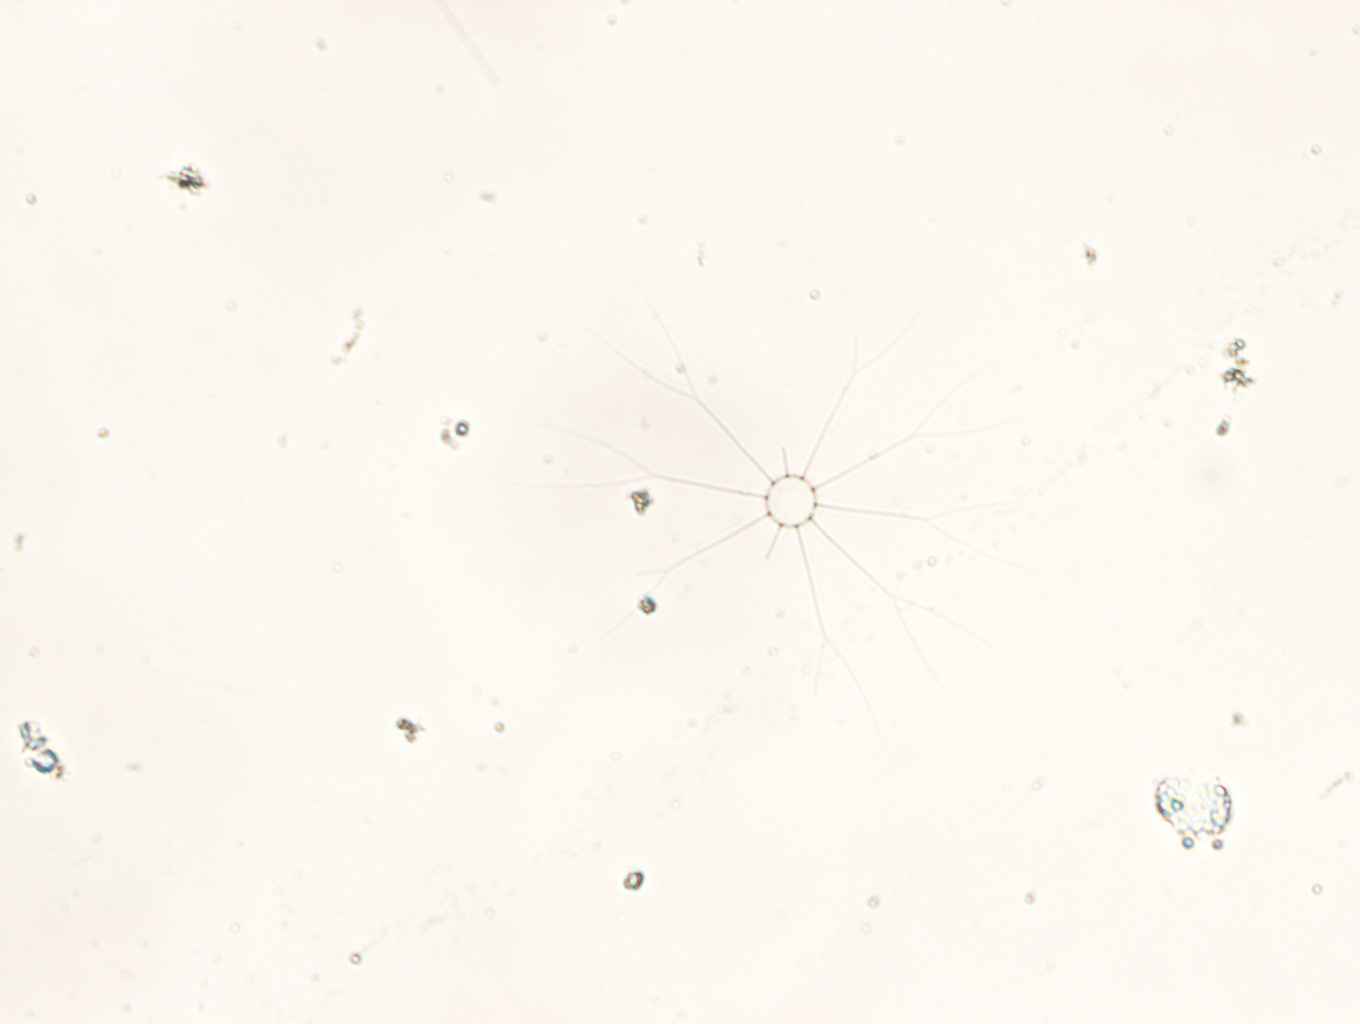bacteriastrum: (559, 276, 1068, 712)
